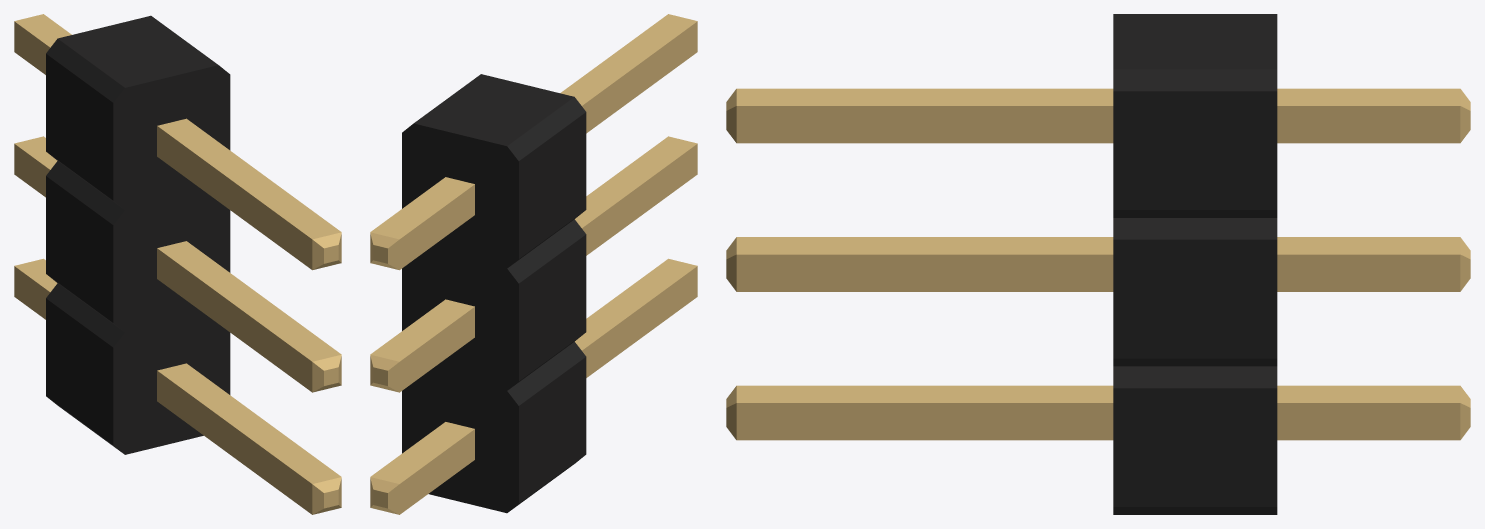
The model's file is PinHeader_1x03_P2.54mm_Vertical.obj.
3 views of the same model, side by side, from view 1: azimuth 30°, elevation 25°; view 2: azimuth 150°, elevation 25°; view 3: azimuth 270°, elevation 25° (orthographic). The views are drawn at different scales.
Visible parts, largest first — view 1: obj2, obj1; view 2: obj2, obj1; view 3: obj1, obj2.
Part boxes in pixels (<box>): obj2: <box>46,15,230,454</box>; obj1: <box>14,14,341,514</box>; obj2: <box>402,74,586,513</box>; obj1: <box>370,14,697,514</box>; obj1: <box>726,88,1470,440</box>; obj2: <box>1113,14,1277,514</box>.
Size of the model in its own units: 2.54 by 7.62 by 11.54.
